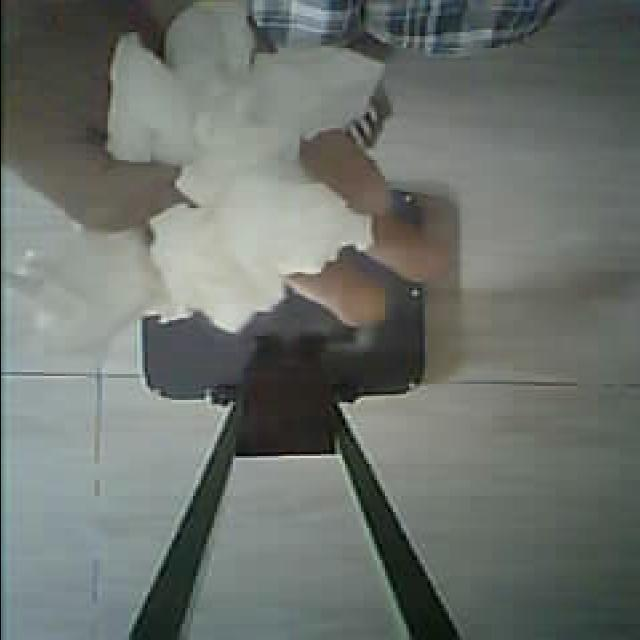Paper: (114, 23, 383, 342)
